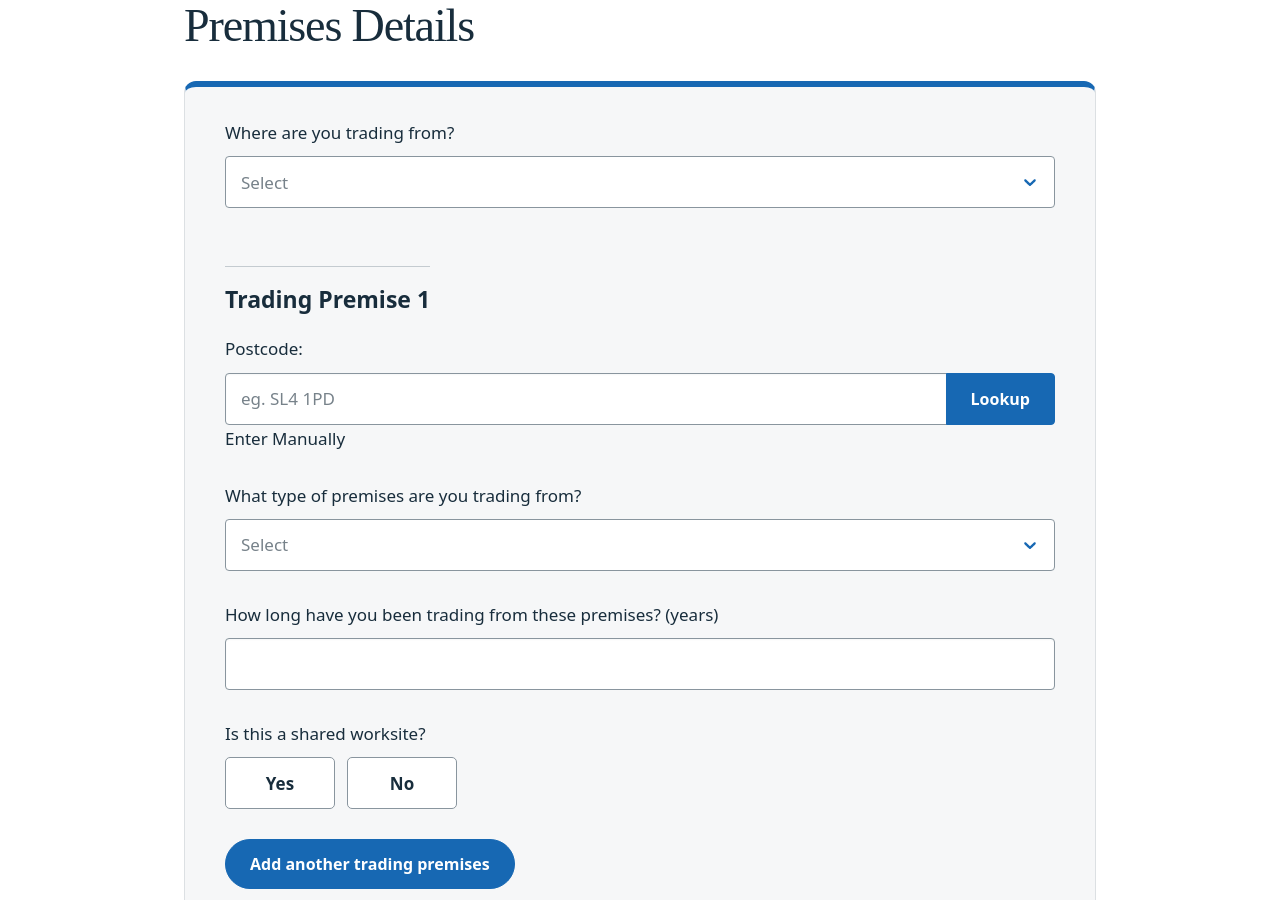
Test case: MTS-02 mounted rows › U02 caps at five, preserves first row and removes a later row by index
The width and height of the screenshot is (1280, 900).
Expected: the heading "Trading Premise 1" is shown, [225,266,430,315]
Expected: the button "X" is not shown
Click the button "Add another trading premises": (370, 864) [225,839,515,889]
(page scrolled)
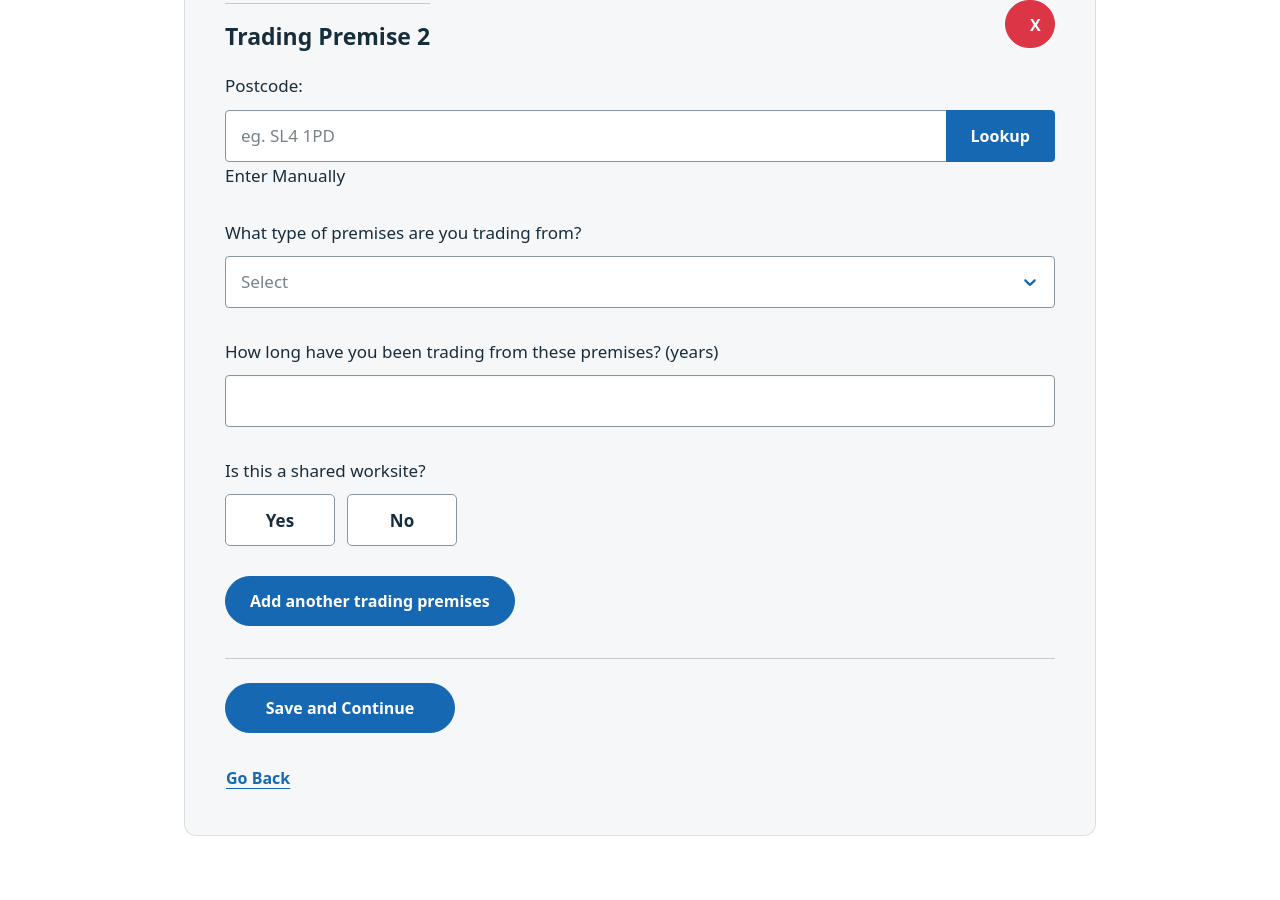
Click the button "Add another trading premises": (370, 601) [225,576,515,626]
(page scrolled)
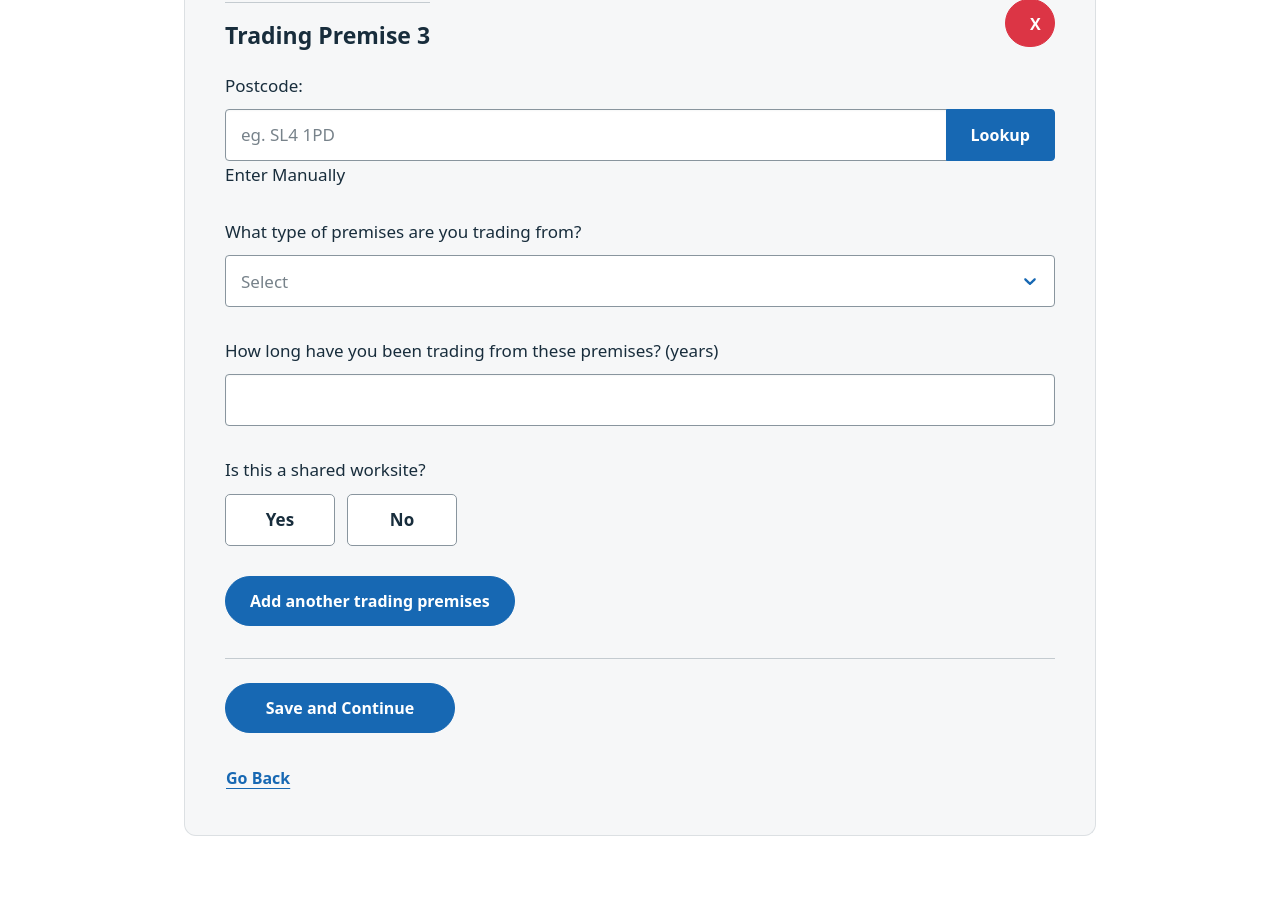
Click the button "Add another trading premises": (370, 600) [225,576,515,626]
(page scrolled)
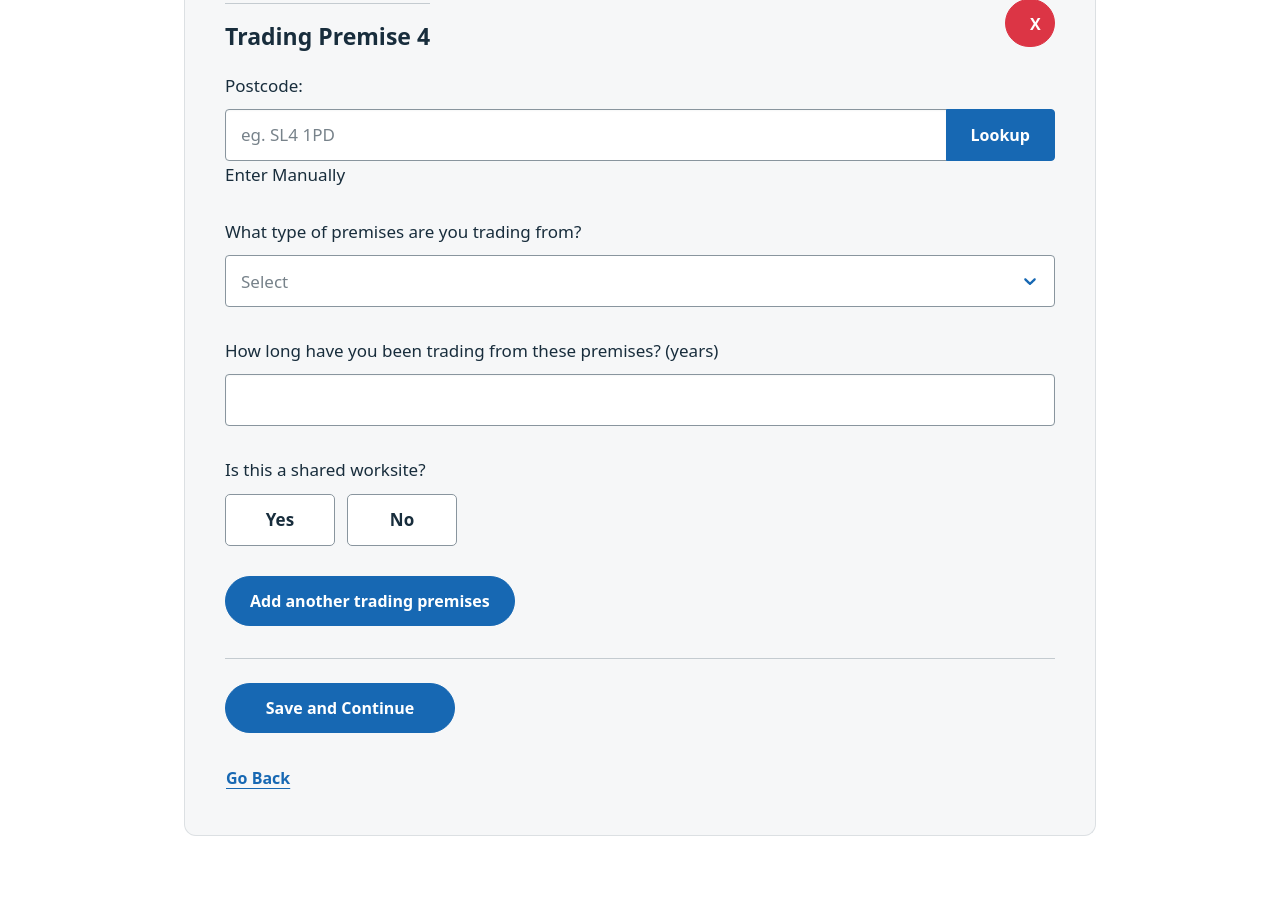
Click the button "Add another trading premises": (370, 601) [225,576,515,626]
(page scrolled)
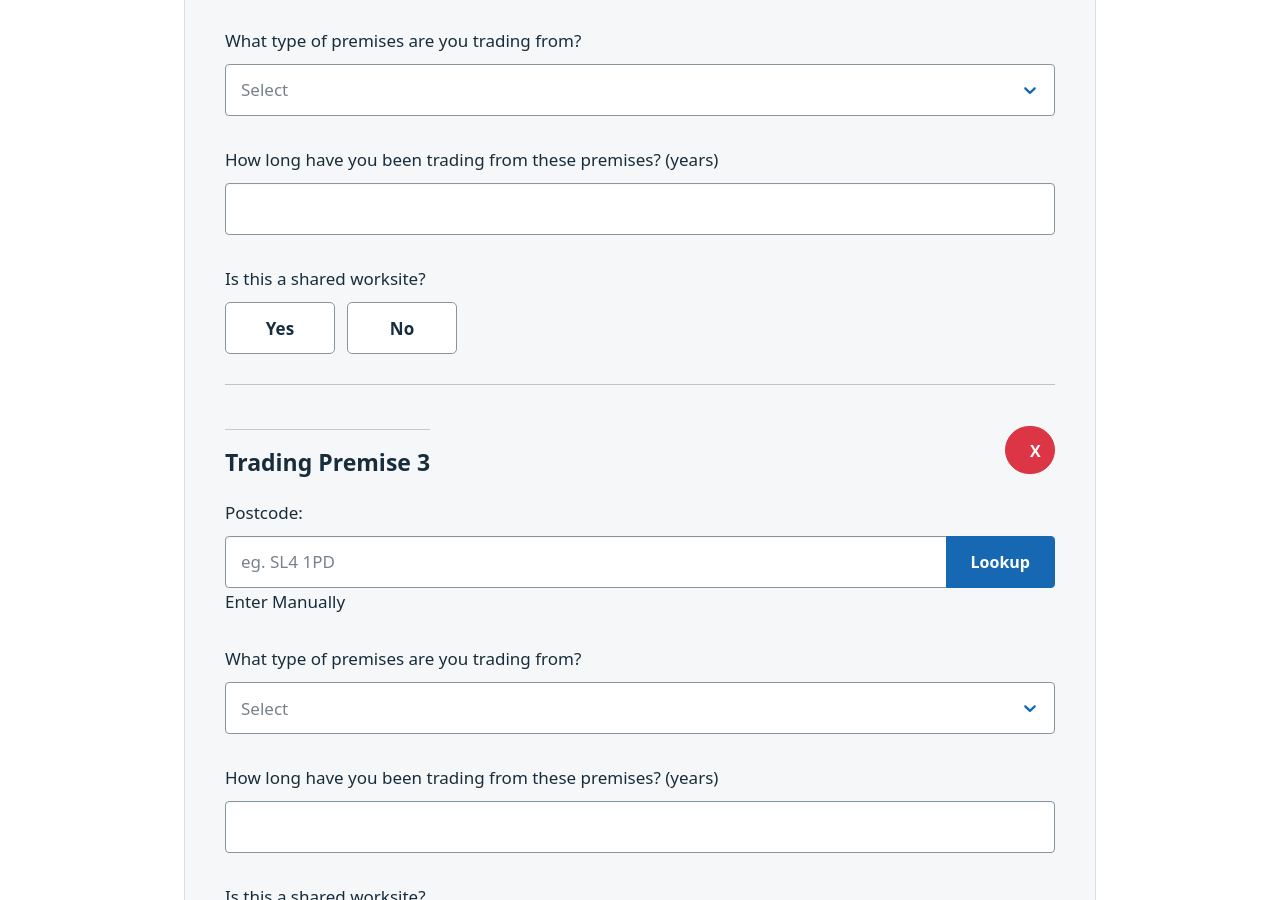
Now the number of buttons "X" is 4
Now the button "Add another trading premises" is gone
Click the button "X": (1030, 450) [1005,426,1055,474]
(page scrolled)
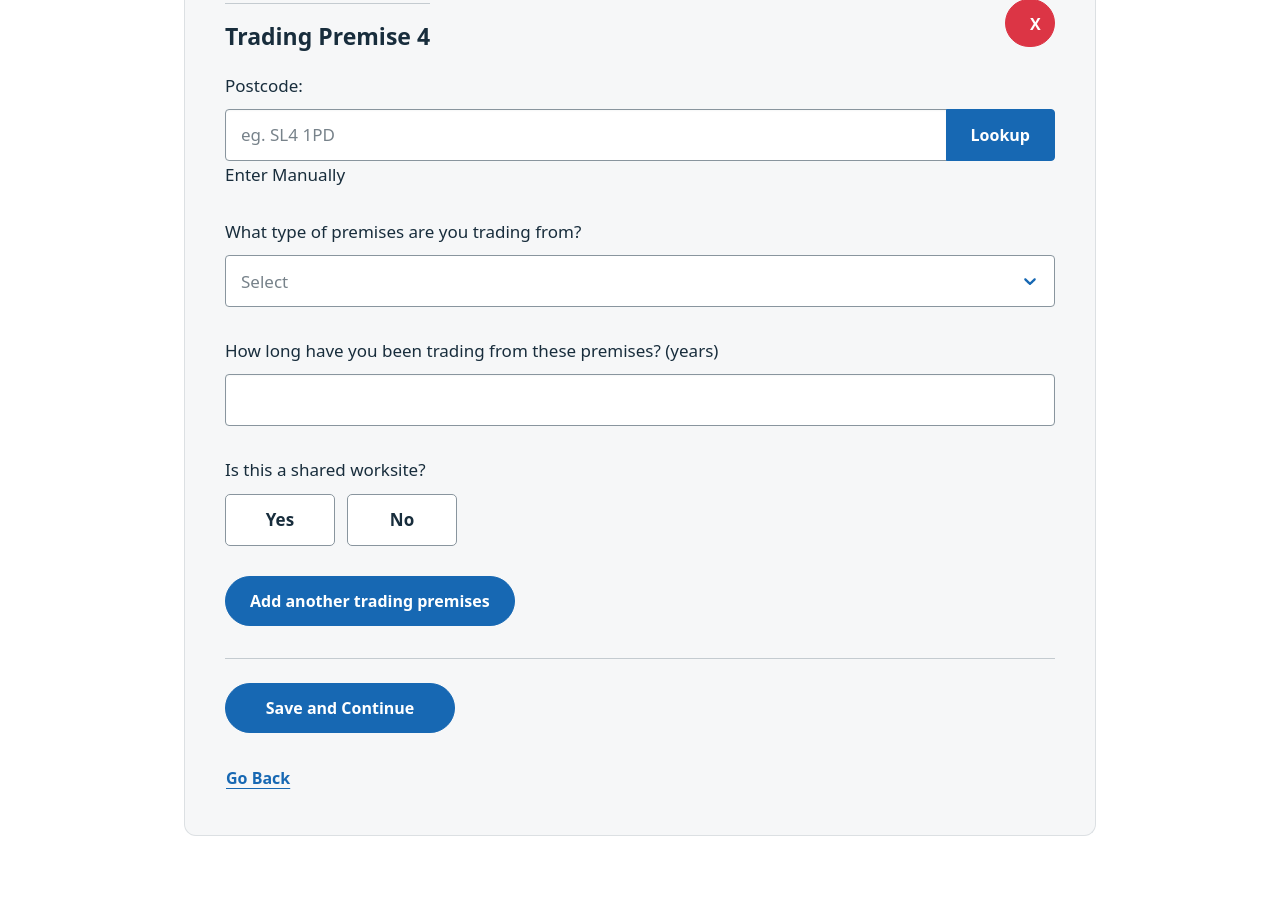
Now the number of buttons "X" is 3
Now the button "Add another trading premises" is shown, box [225,576,515,626]
